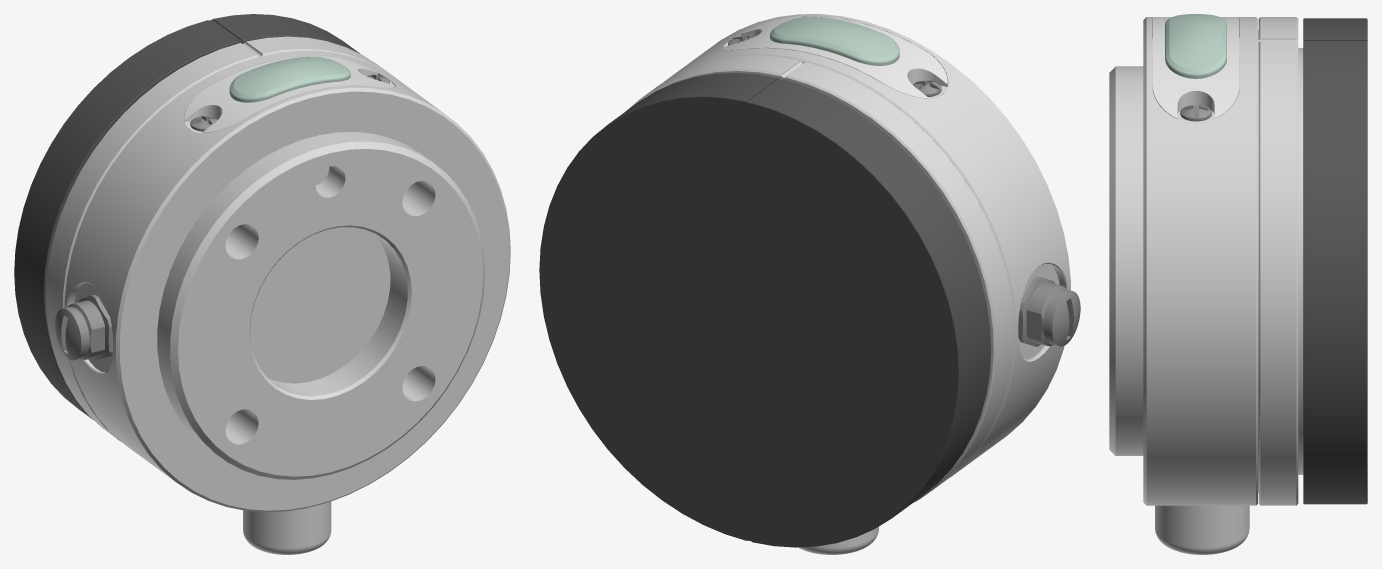
3 views of the same model, side by side, from view 1: azimuth 30°, elevation 25°; view 2: azimuth 150°, elevation 25°; view 3: azimuth 270°, elevation 25° (orthographic). The views are drawn at different scales.
Visible parts, largest first — view 1: 솔리드2.003, 솔리드6.004, 솔리드3.003, 솔리드7.003, 솔리드10.002, 솔리드6.005, 솔리드9.002, 솔리드11.002; view 2: 솔리드6.004, 솔리드2.003, 솔리드3.003, 솔리드7.003, 솔리드6.005, 솔리드9.002, 솔리드11.002, 솔리드10.002; view 3: 솔리드2.003, 솔리드6.004, 솔리드3.003, 솔리드7.003, 솔리드10.002, 솔리드6.005, 솔리드13.001.
Part boxes in pixels (x1,y1,x2,y2): 솔리드2.003: (64,50,510,512); 솔리드6.004: (14,14,360,420); 솔리드3.003: (46,36,392,441); 솔리드7.003: (184,56,395,132); 솔리드10.002: (243,501,331,554); 솔리드6.005: (229,56,350,102); 솔리드9.002: (68,295,112,360); 솔리드11.002: (55,306,88,360); 솔리드6.004: (539,73,991,547); 솔리드2.003: (663,14,1070,476); 솔리드3.003: (625,55,1014,502); 솔리드7.003: (722,16,947,98); 솔리드6.005: (770,16,899,65); 솔리드9.002: (1018,276,1066,346); 솔리드11.002: (1044,289,1080,346); 솔리드10.002: (798,526,878,554); 솔리드2.003: (1109,17,1257,505); 솔리드6.004: (1303,18,1367,504); 솔리드3.003: (1258,17,1303,505); 솔리드7.003: (1152,17,1239,122); 솔리드10.002: (1155,505,1249,554); 솔리드6.005: (1165,14,1226,78); 솔리드13.001: (1180,105,1211,121).
Bounding box in the file's own units: 0.0843 × 0.0417 × 0.0908.
